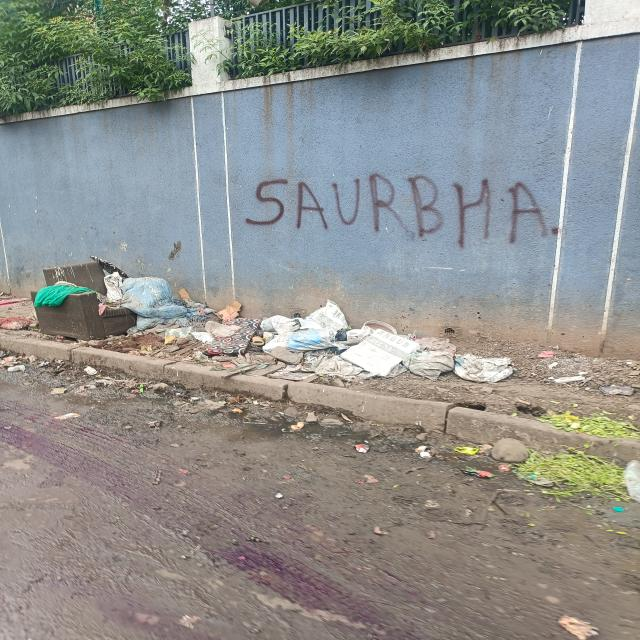garbage: (49, 268, 265, 372), (271, 307, 519, 384)
